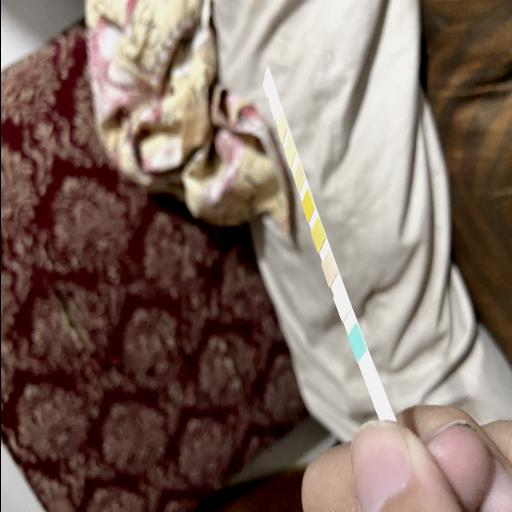Bilirubin: (336, 296, 346, 310)
Blood: (303, 198, 311, 212)
Glucose: (350, 336, 362, 350)
Ketone: (323, 262, 332, 276)
Leukocytes: (264, 75, 270, 89)
Nitrite: (271, 96, 277, 110)
Protein: (285, 144, 292, 158)
SpGravity: (312, 228, 322, 242)
Urobilinogen: (278, 122, 284, 134)
pH: (294, 170, 302, 184)
strip: (263, 67, 390, 418)
